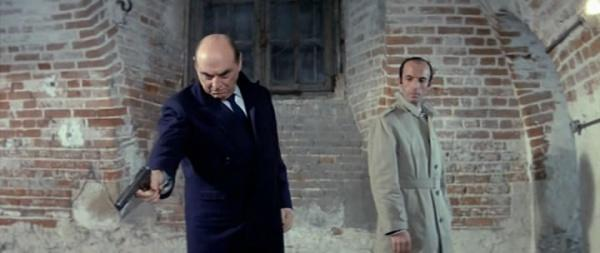Gun: (114, 164, 152, 213)
